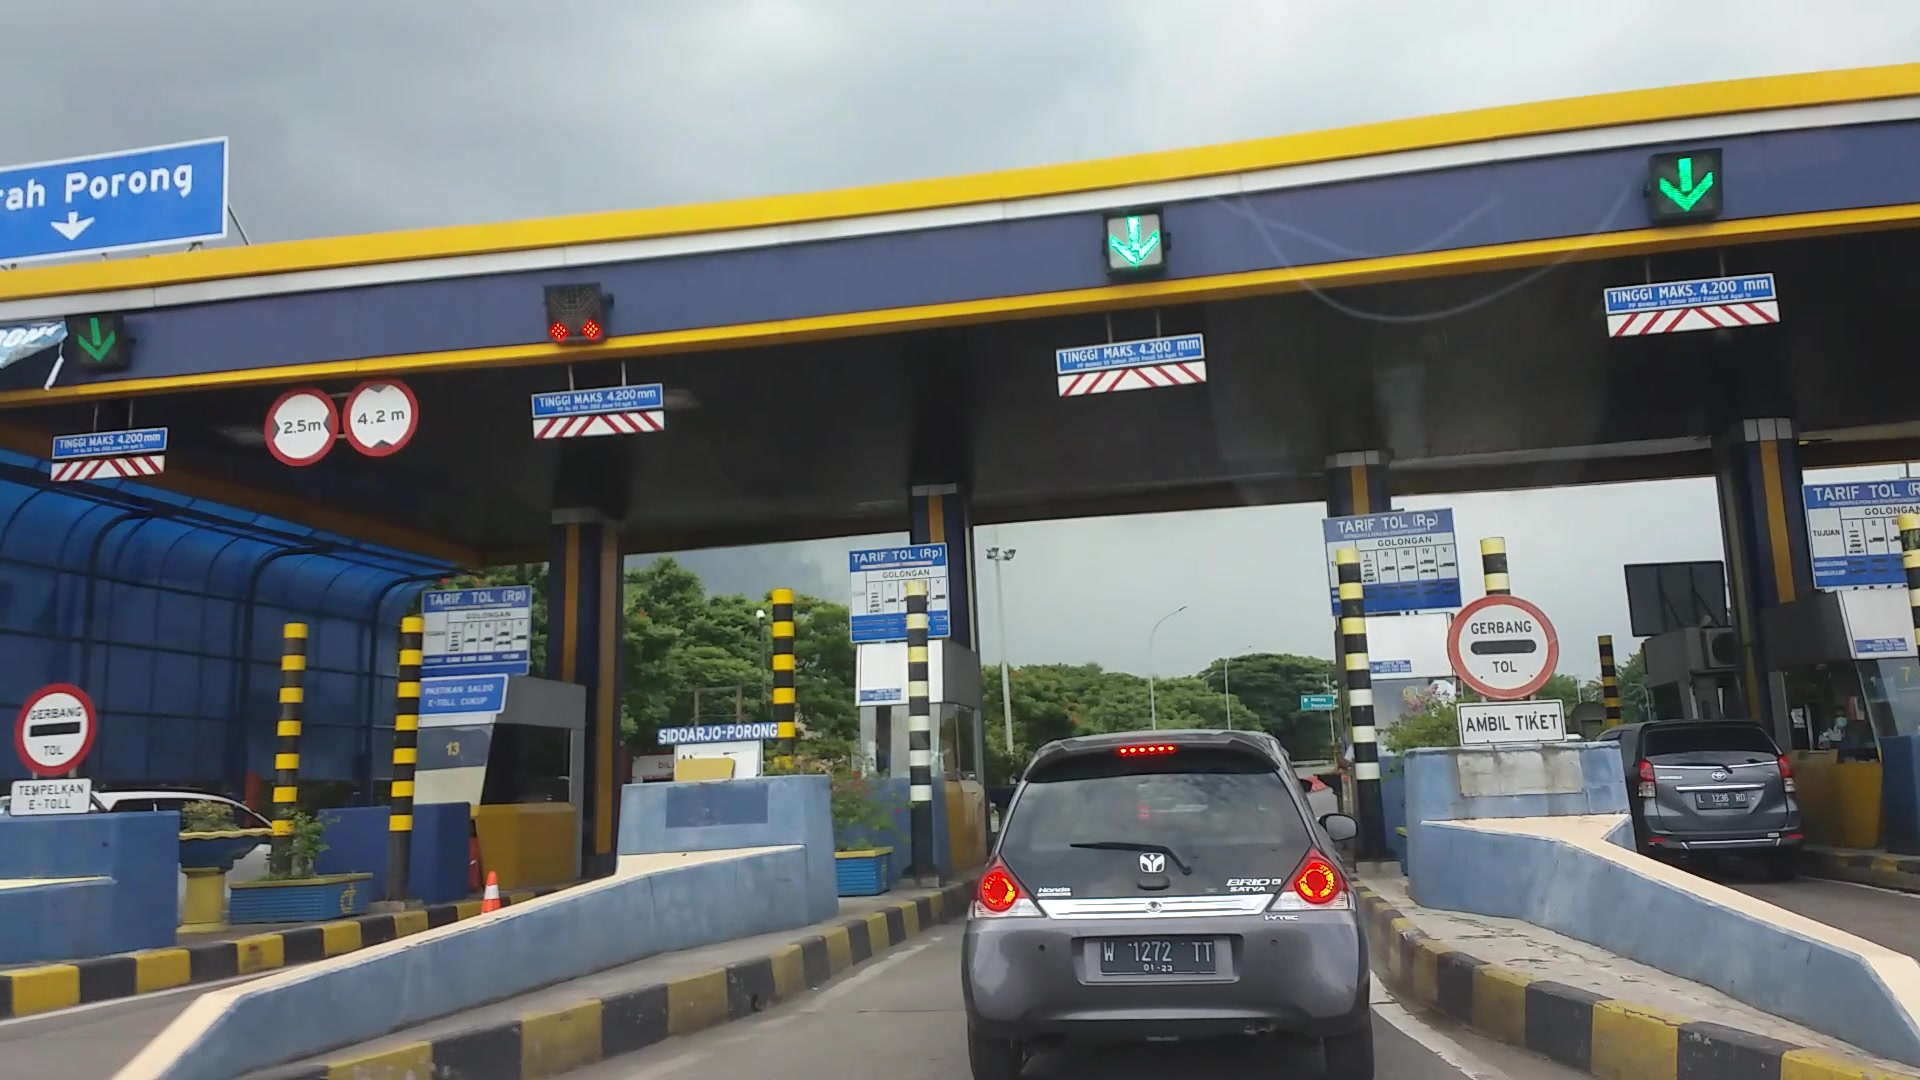plate_positive: (1100, 938, 1215, 975)
